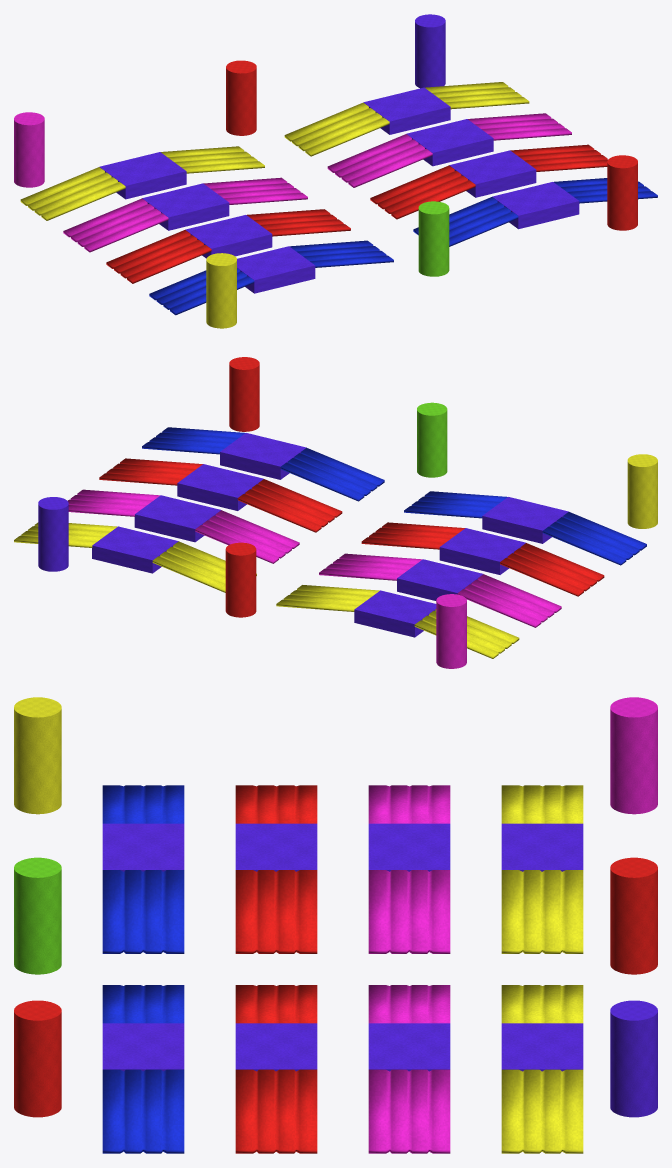
The model's file is playground-no-white-base.glb.
3 views of the same model, one above another, from view 1: azimuth 30°, elevation 25°; view 2: azimuth 150°, elevation 25°; view 3: azimuth 270°, elevation 25° (orthographic). The views are drawn at different scales.
Parts seen in each view (by area): view 1: Cube004, Cube013, Cube007, Cube002, Cube016, Cube019, Cube018, Cube001, Cube, Cube015, Cube021, Cube012 (+18 smaller); view 2: Cube019, Cube007, Cube010, Cube022, Cube004, Cube015, Cube006, Cube018, Cube009, Cube021, Cube012, Cube (+18 smaller); view 3: Cube017, Cube020, Cube023, Cube014, Cube003, Cube005, Cube008, Cube011, Cylinder004, Cylinder005, Cylinder, Cylinder001 (+18 smaller).
Boxes of the visible parts, x1,y1,x2,y2 form: Cube004: (63,198,168,252); Cube013: (284,102,389,156); Cube007: (106,230,211,283); Cube002: (20,167,125,220); Cube016: (327,134,432,187); Cube019: (370,165,475,219); Cube018: (449,150,536,197); Cube001: (142,183,229,230); Cube: (99,152,186,199); Cube015: (406,119,493,166); Cube021: (492,182,579,229); Cube012: (363,87,450,134); Cube019: (237,479,342,532); Cube007: (500,543,604,596); Cube010: (542,512,646,565); Cube022: (280,448,384,501); Cube004: (457,574,561,627); Cube015: (134,495,220,542); Cube006: (439,528,525,574); Cube018: (177,464,263,510); Cube009: (482,497,568,543); Cube021: (220,433,306,479); Cube012: (92,526,178,573); Cube: (354,590,436,637); Cube017: (368,1069,450,1153); Cube020: (235,1069,317,1153); Cube023: (102,1069,184,1153); Cube014: (501,1069,583,1153); Cube003: (501,870,583,953); Cube005: (368,870,450,953); Cube008: (235,870,317,953); Cube011: (102,870,184,953); Cylinder004: (610,1000,657,1117); Cylinder005: (14,1000,61,1117); Cylinder: (610,857,657,974); Cylinder001: (14,857,61,974).
Bounding box in the file's own units: 188 × 24.21 × 140.
Materials: 6 (6 with a texture image).
